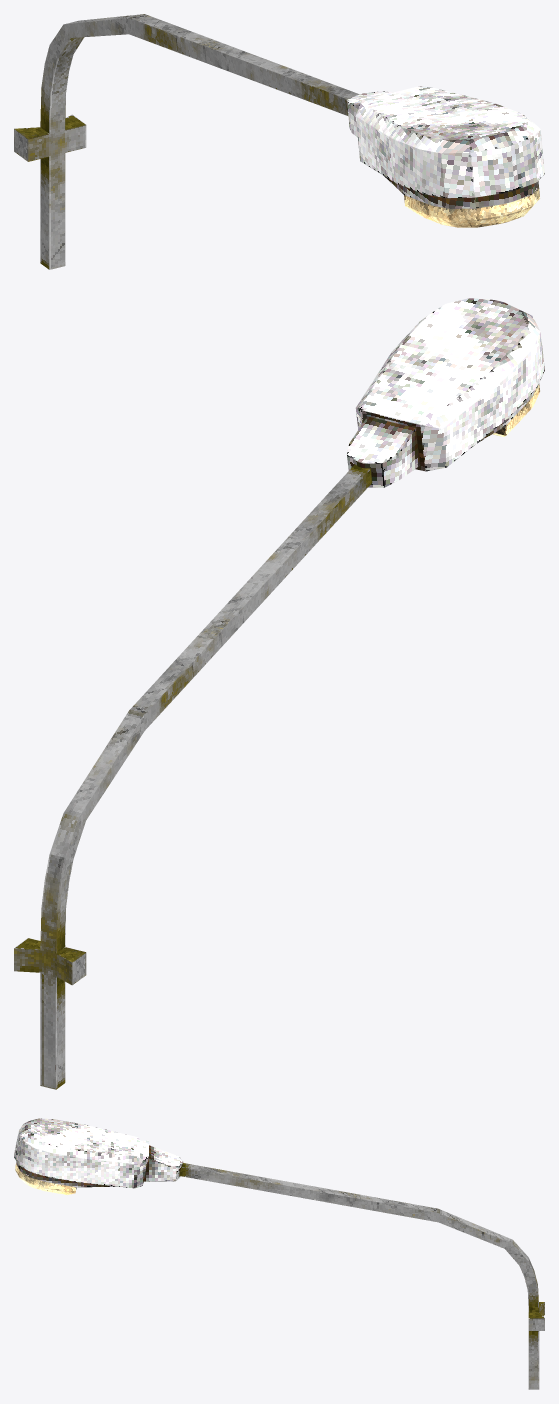
The model's file is E_Pole_Light.glb.
3 renders of one model, top to bottom at view 1: azimuth 30°, elevation 25°; view 2: azimuth 150°, elevation 25°; view 3: azimuth 270°, elevation 25°, orthographic. The views are drawn at different scales.
Visible parts, largest first — view 1: E_Pole_Light; view 2: E_Pole_Light; view 3: E_Pole_Light.
Part boxes in pixels (x1=…): E_Pole_Light: x1=14, y1=14, x2=544, y2=269; E_Pole_Light: x1=14, y1=298, x2=544, y2=1089; E_Pole_Light: x1=14, y1=1118, x2=544, y2=1389.
Bounding box in the file's own units: 0.2236 × 0.8626 × 1.6.
Materials: 2 (2 with a texture image).
